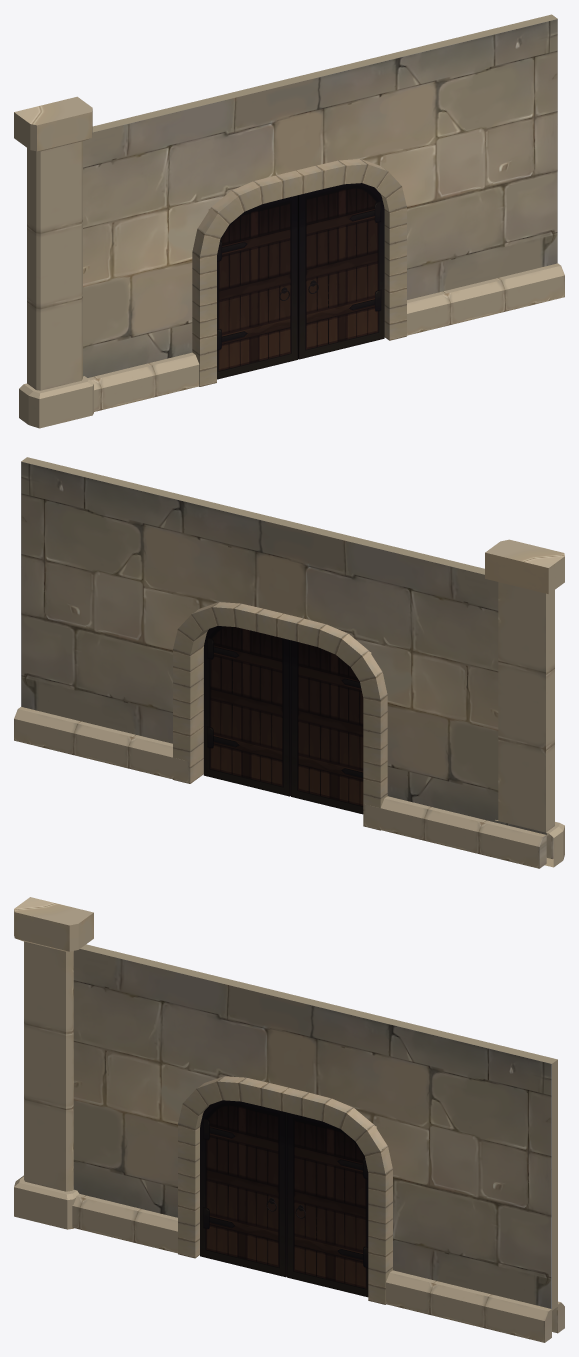
The model's file is Pintu-Double.fbx.
The picture shows the model from 3 angles, top to bottom: view 1: azimuth 30°, elevation 25°; view 2: azimuth 150°, elevation 25°; view 3: azimuth 330°, elevation 25°; orthographic projection.
Parts seen in each view (by area): view 1: tembok-pintu-2, pintu-2-kanan, pintu-2-kiri; view 2: tembok-pintu-2, pintu-2-kanan, pintu-2-kiri; view 3: tembok-pintu-2, pintu-2-kiri, pintu-2-kanan.
Boxes of the visible parts, x1=… form: tembok-pintu-2: x1=14, y1=14, x2=564, y2=428; pintu-2-kanan: x1=298, y1=183, x2=384, y2=359; pintu-2-kiri: x1=217, y1=195, x2=297, y2=379; tembok-pintu-2: x1=14, y1=457, x2=564, y2=868; pintu-2-kanan: x1=203, y1=626, x2=290, y2=796; pintu-2-kiri: x1=291, y1=640, x2=363, y2=814; tembok-pintu-2: x1=14, y1=897, x2=564, y2=1342; pintu-2-kiri: x1=200, y1=1100, x2=286, y2=1277; pintu-2-kanan: x1=287, y1=1112, x2=368, y2=1297.
Size of the model in its own units: 10.2 by 5.55 by 0.7294.
Materials: 1 (1 with a texture image).
